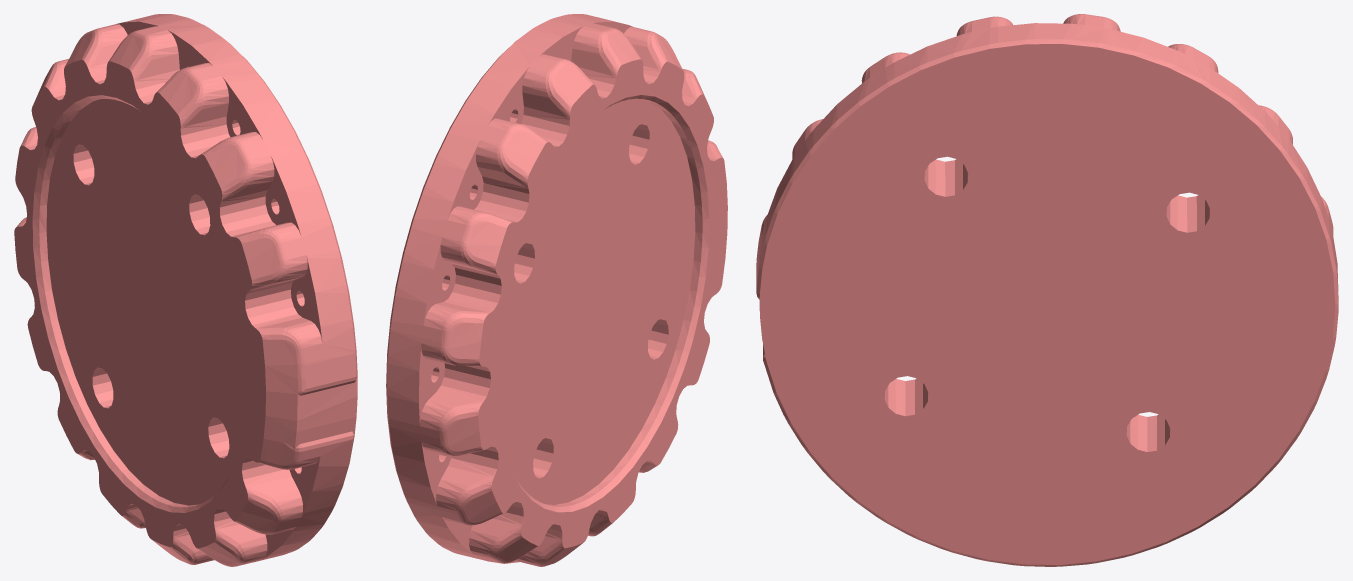
The model's file is converted_r3_config1_base_puck_col_ff9999ff.obj.
3 renders of one model, left to right at view 1: azimuth 30°, elevation 25°; view 2: azimuth 150°, elevation 25°; view 3: azimuth 270°, elevation 25°, orthographic. The views are drawn at different scales.
Bounding box in the file's own units: 0.0142 × 0.084 × 0.084.
